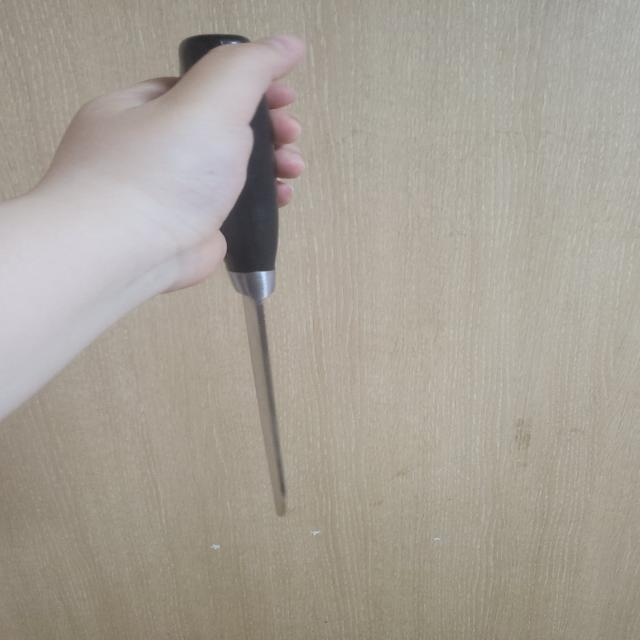knife: (185, 33, 288, 517)
